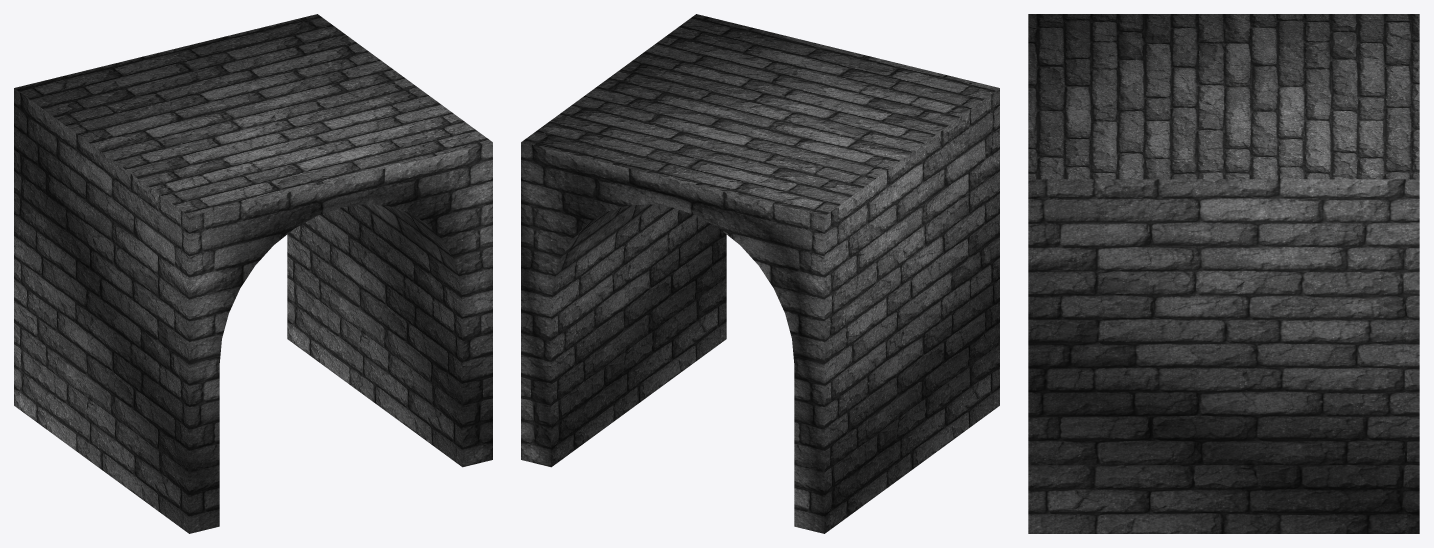
Rendered from stone block walk way3.glb.
3 renders of one model, left to right at view 1: azimuth 30°, elevation 25°; view 2: azimuth 150°, elevation 25°; view 3: azimuth 270°, elevation 25°, orthographic. The views are drawn at different scales.
Parts seen in each view (by area): view 1: Circular Arch Hall, large; view 2: Circular Arch Hall, large; view 3: Circular Arch Hall, large.
Part boxes in pixels (x1,y1,x2,y2): Circular Arch Hall, large: (14,14,492,533); Circular Arch Hall, large: (521,14,999,533); Circular Arch Hall, large: (1028,14,1419,533).
Bounding box in the file's own units: 2.74 × 2.74 × 2.74.
Materials: 1 (1 with a texture image).
